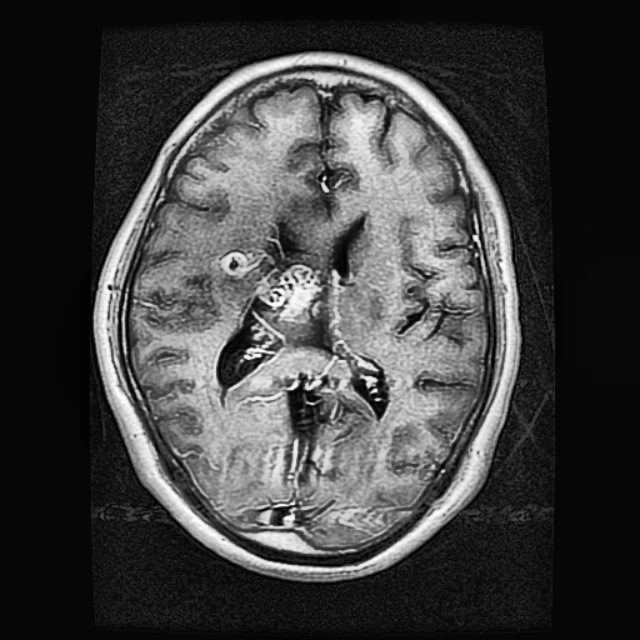Pituitary: (217, 224, 329, 330)
